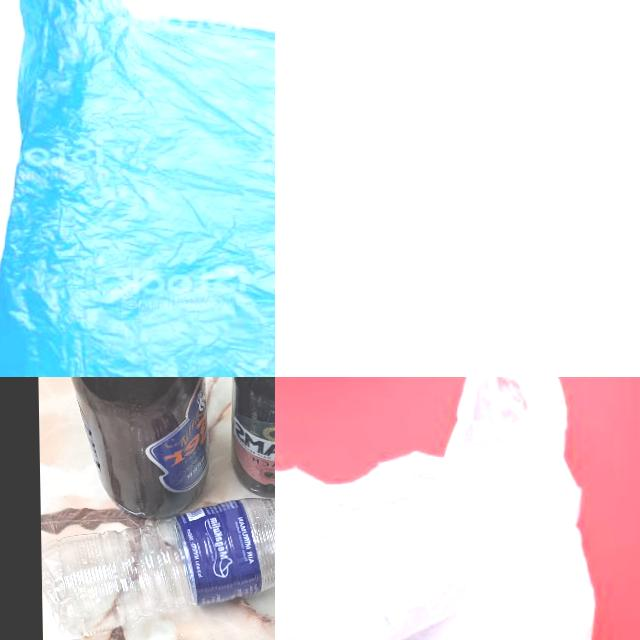garrafa de vidro: (70, 377, 212, 520), (226, 377, 275, 496)
garrafa plástica: (40, 498, 275, 639)
sacola plástica: (275, 0, 640, 377), (0, 0, 275, 377), (275, 377, 596, 640)
